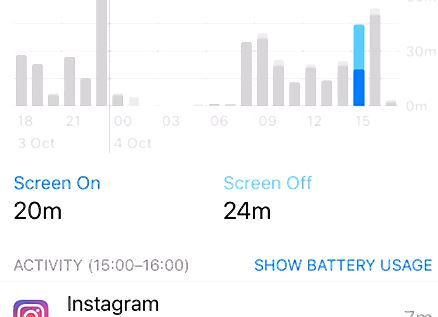activity: (5, 252, 195, 281)
